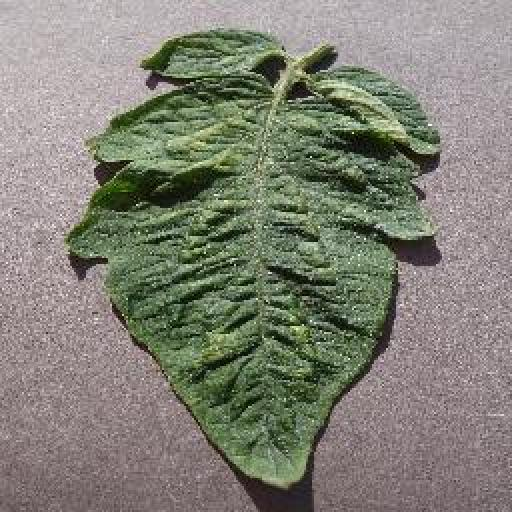disease_tomato: (63, 26, 441, 486)
